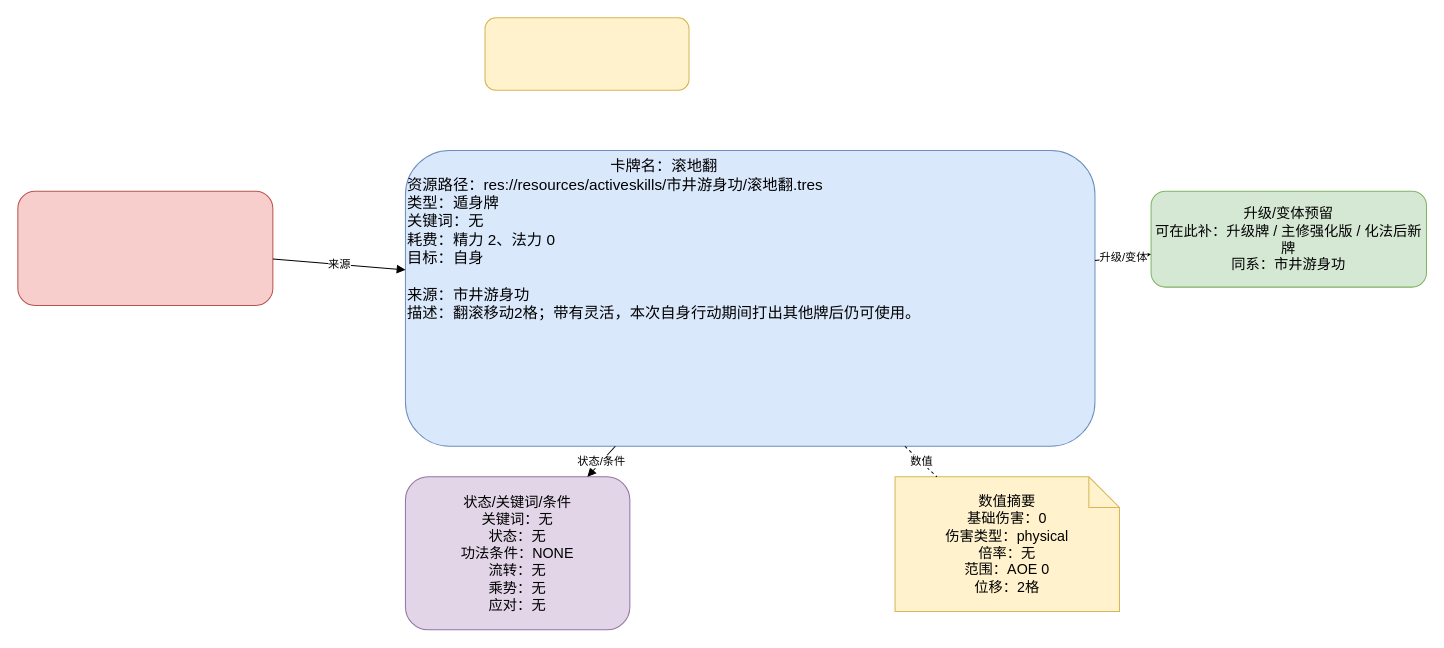
Image size: 1444x648. Some labels were removed from this diagram. The shapes that lost their labels are listed below. From the top down, each one's centre as x and y in pixels, then its label:
At (x=586, y=53): "滚地翻 卡牌词典自动初稿".
At (x=145, y=247): "来源/前置 来源分类：市井游身功 来源秘籍：市井游身功 可在此补：前置牌 / 被替换牌 / 基础牌来源".
